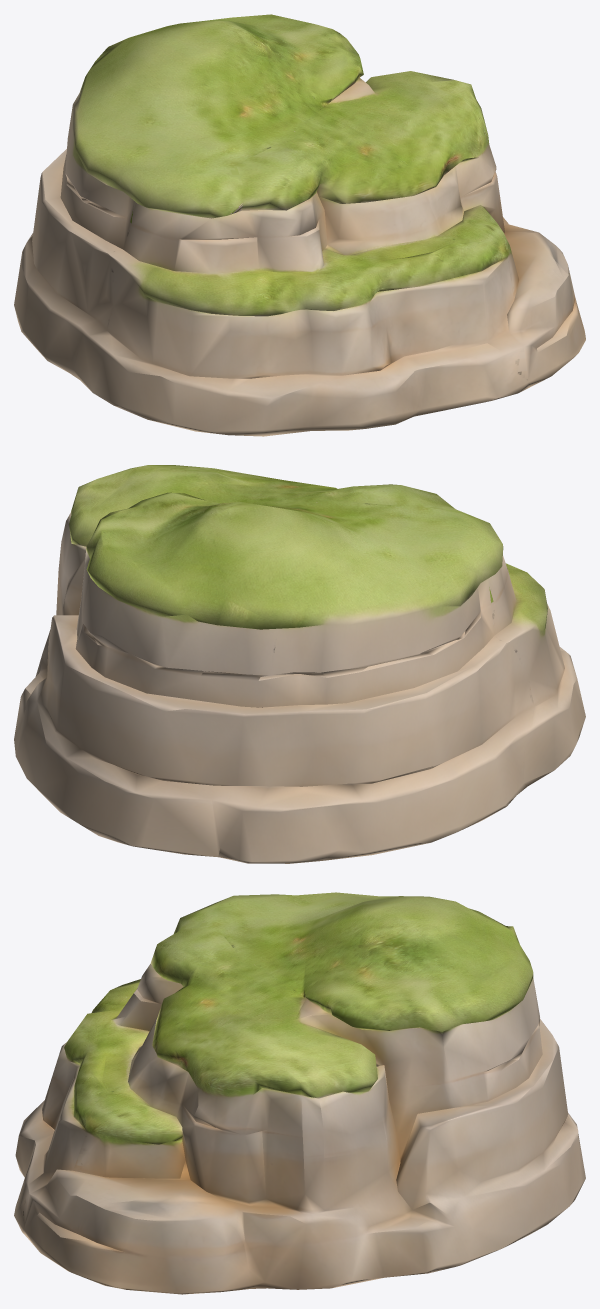
Rendered from toy-hill-mobile.glb.
The picture shows the model from 3 angles, top to bottom: view 1: azimuth 30°, elevation 25°; view 2: azimuth 150°, elevation 25°; view 3: azimuth 270°, elevation 25°; orthographic projection. The views are drawn at different scales.
Parts seen in each view (by area): view 1: model; view 2: model; view 3: model.
Part boxes in pixels (<box>): model: <box>14,14,585,436</box>; model: <box>14,465,585,863</box>; model: <box>14,892,585,1294</box>.
Bounding box in the file's own units: 1.76 × 0.9477 × 1.9.
1 material, 1 textured.
